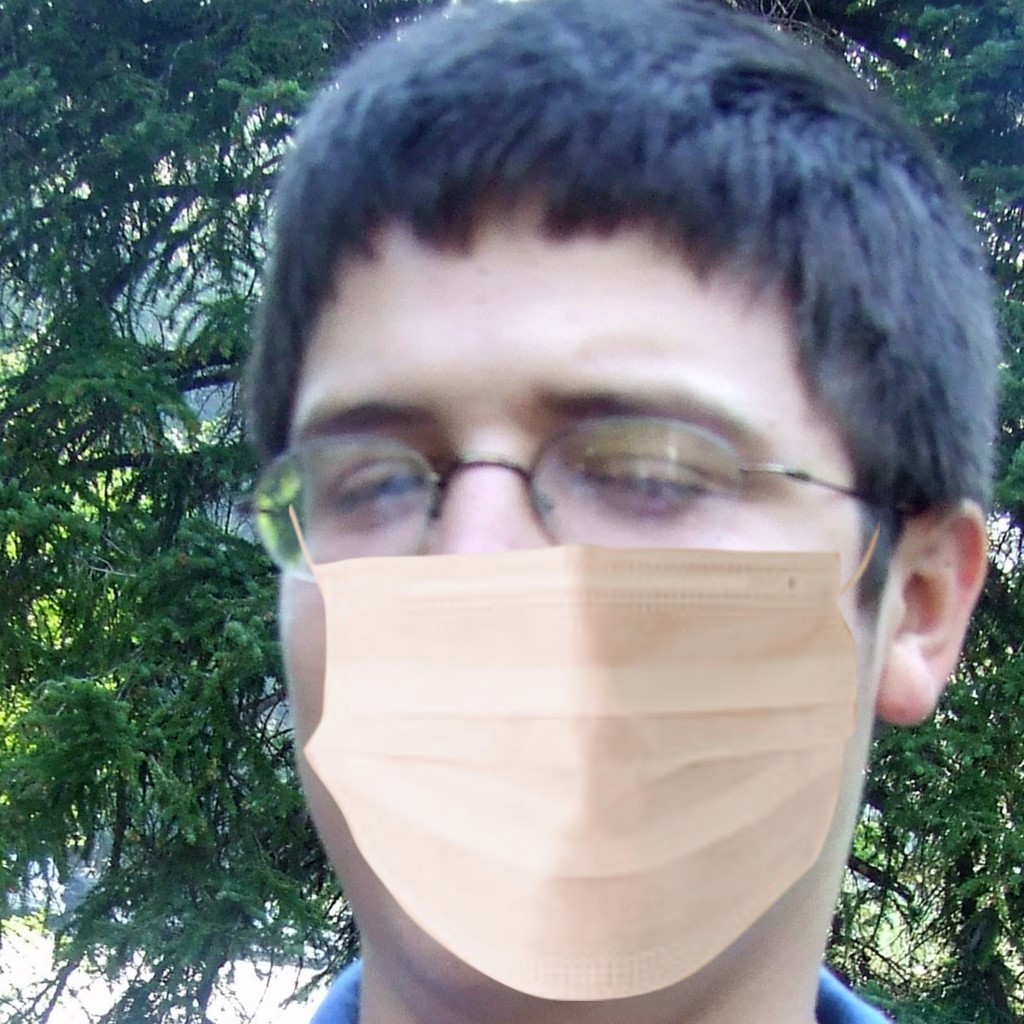con_mascara: (247, 72, 945, 1003)
